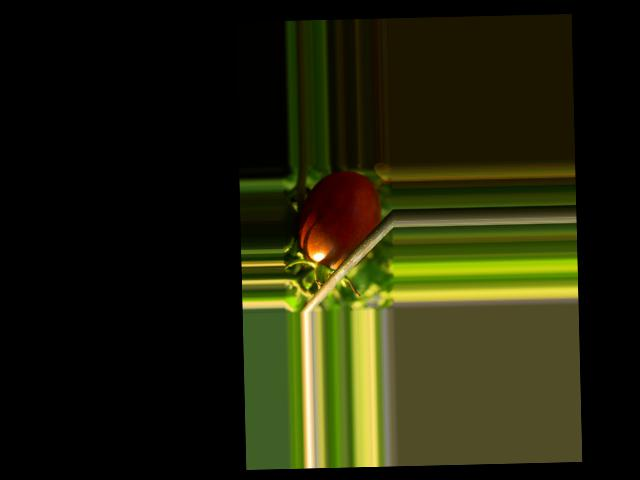tomato: (298, 170, 381, 270)
